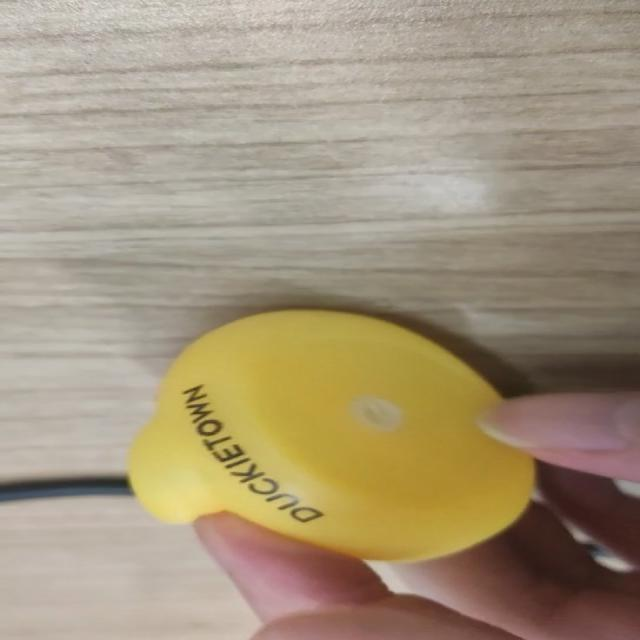rubber-duck: (128, 309, 532, 558)
